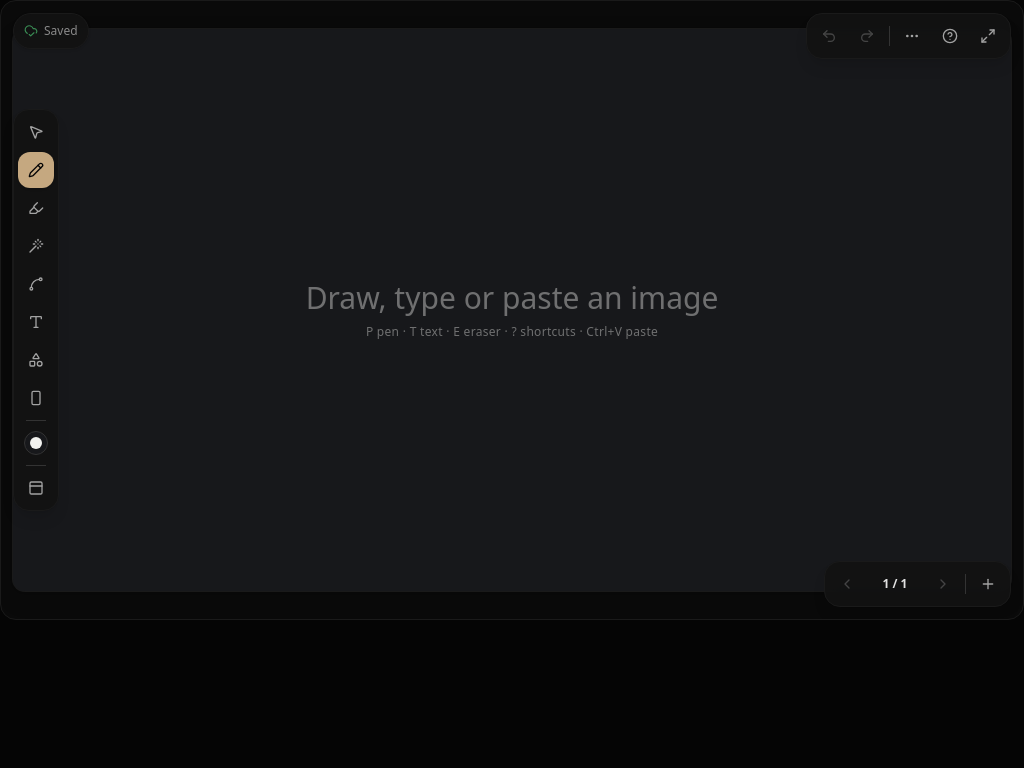
it: BoardShortcutsDialog & Shortcuts Guide (SDD/2026-10-14_guia-de-atalhos-lousa.md) › CT02 / CA04: opens the dialog with all shortcut categories when help button is clicked
This screenshot has width=1024, height=768.
Click the button named "Keyboard shortcuts".
click(950, 36)  # box top-left (932, 18), bottom-right (968, 54)
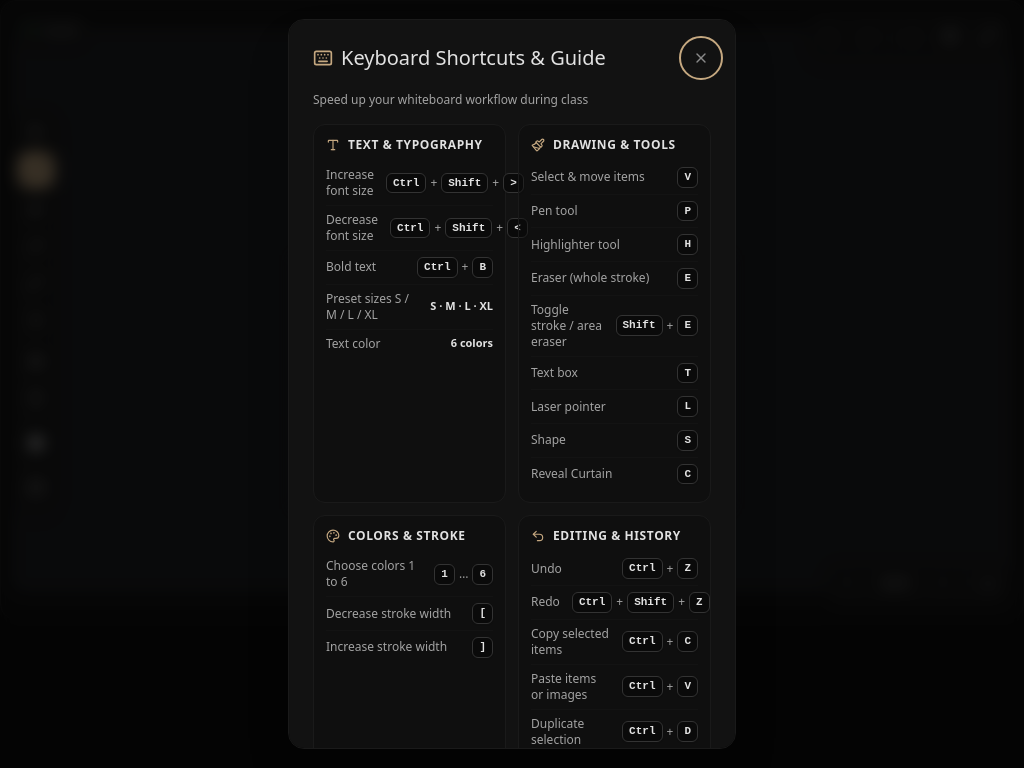
Result: the heading "Keyboard Shortcuts & Guide" is shown at top-left (313, 44), bottom-right (606, 72)
Result: the text "Text & Typography" is shown at top-left (348, 137), bottom-right (483, 153)
Result: the text "Drawing & Tools" is shown at top-left (553, 137), bottom-right (676, 153)
